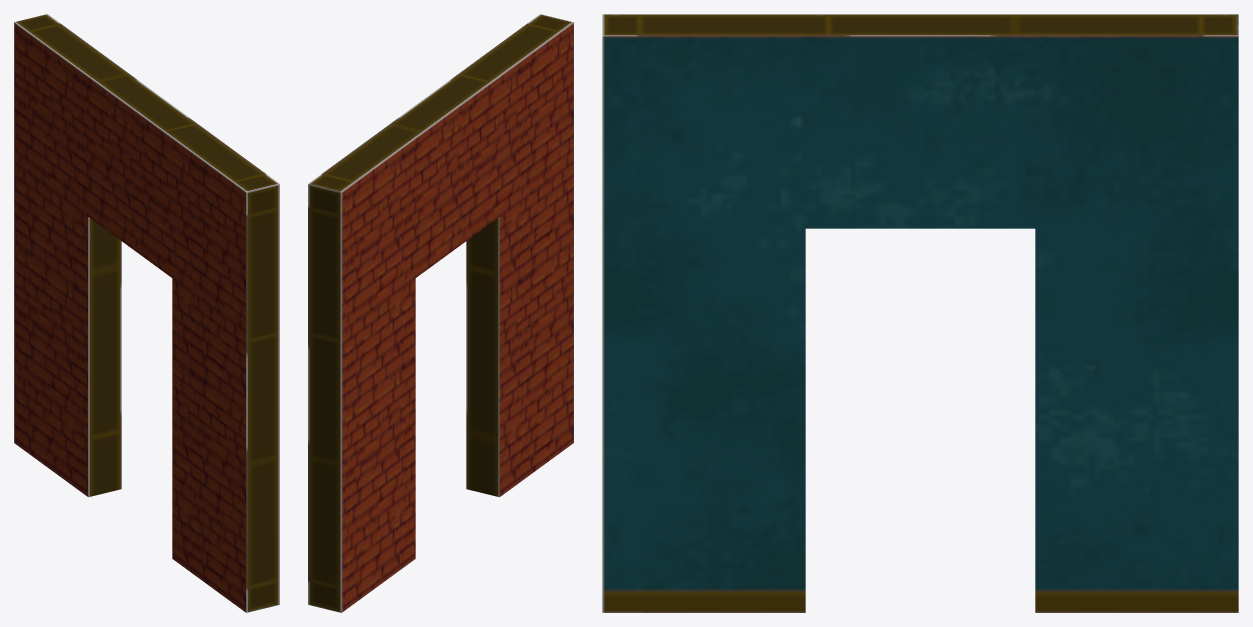
The model's file is Wall_Door_01.fbx.
The picture shows the model from 3 angles, left to right: view 1: azimuth 30°, elevation 25°; view 2: azimuth 150°, elevation 25°; view 3: azimuth 270°, elevation 25°; orthographic projection. The views are drawn at different scales.
Parts seen in each view (by area): view 1: Wall_Door_01; view 2: Wall_Door_01; view 3: Wall_Door_01.
Part boxes in pixels (x1=…): Wall_Door_01: x1=14, y1=14, x2=279, y2=612; Wall_Door_01: x1=308, y1=14, x2=573, y2=612; Wall_Door_01: x1=602, y1=14, x2=1238, y2=612.
Bounding box in the file's own units: 50 × 600 × 600.
